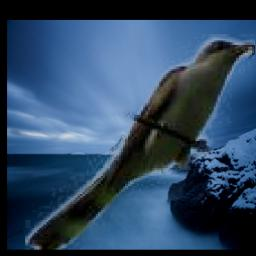Cuckoo: (25, 34, 255, 250)
